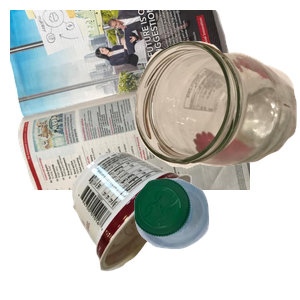glass: (132, 38, 300, 199)
paper: (10, 10, 250, 190)
plastic: (132, 176, 300, 300)
trash: (70, 149, 254, 300)
